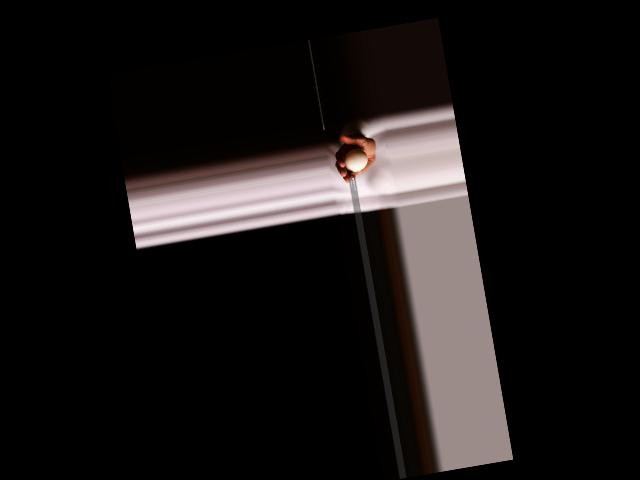egg: (341, 147, 369, 173)
